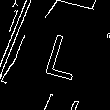L_N: (45, 23, 93, 80)
